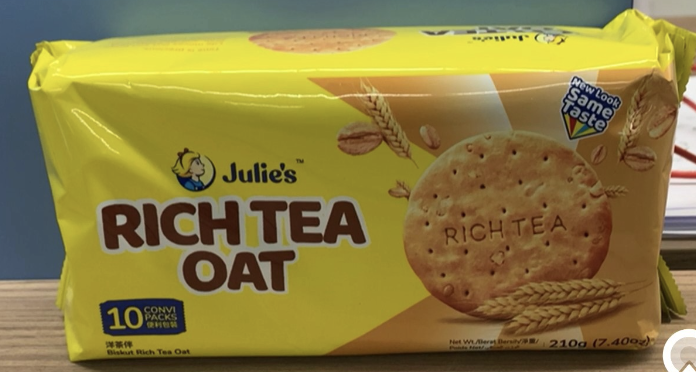cookies_200g-299g: (71, 87, 646, 343)
